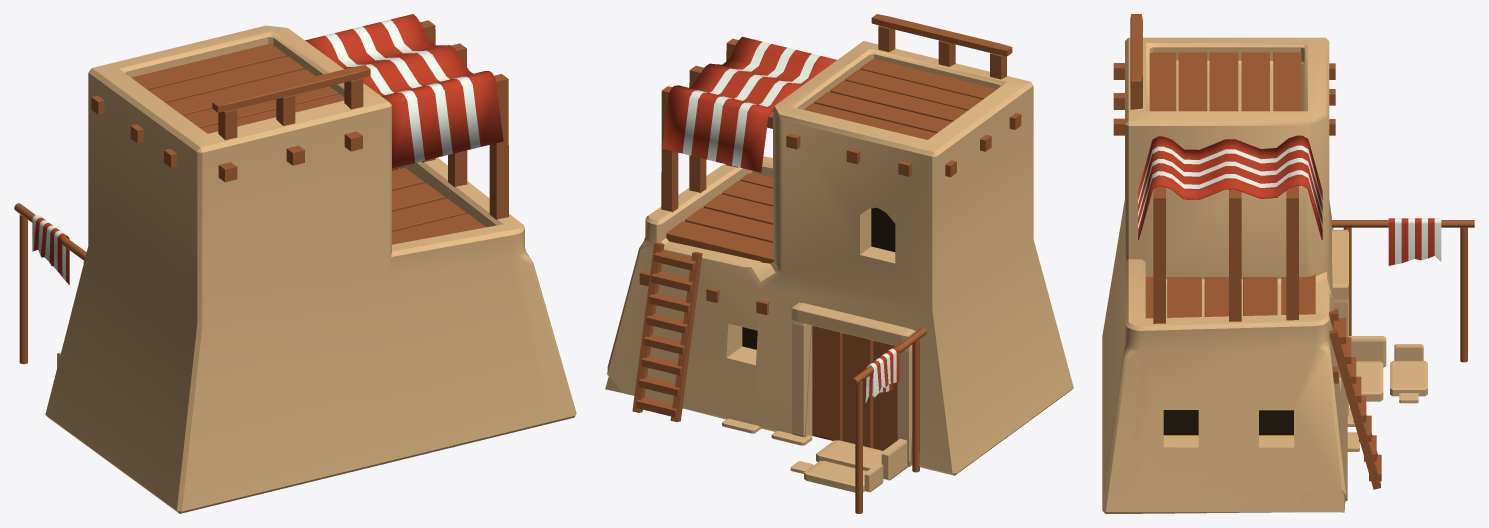
The model's file is DesertHouse_Red.fbx.
3 views of the same model, side by side, from view 1: azimuth 30°, elevation 25°; view 2: azimuth 150°, elevation 25°; view 3: azimuth 270°, elevation 25° (orthographic). The views are drawn at different scales.
Visible parts, largest first — view 1: Cube.036, Plane.001, Cube.037, Cube.071, Cube.063, Cube.067, Cylinder.007, Cylinder.005, Cube.062; view 2: Cube.036, Plane.001, Cube.037, Cube.048, Cube.071, Cube.068, Cube.052, Cube.053, Cube.067, Cube.070, Cube.054, Cube.047 (+8 smaller); view 3: Cube.036, Plane.001, Cube.037, Cube.071, Cylinder.007, Cube.063, Cube.047, Cube.062, Cube.069, Cube.068, Cube.056, Cube.052 (+6 smaller).
Boxes of the visible parts, x1=… form: Cube.036: x1=45, y1=25, x2=576, y2=513; Plane.001: x1=305, y1=14, x2=503, y2=168; Cube.037: x1=131, y1=43, x2=344, y2=133; Cube.071: x1=392, y1=168, x2=485, y2=244; Cube.063: x1=489, y1=74, x2=508, y2=219; Cube.067: x1=212, y1=65, x2=370, y2=112; Cylinder.007: x1=32, y1=215, x2=69, y2=284; Cylinder.005: x1=19, y1=214, x2=27, y2=364; Cube.062: x1=448, y1=43, x2=467, y2=187; Cube.036: x1=605, y1=41, x2=1073, y2=475; Plane.001: x1=662, y1=36, x2=836, y2=172; Cube.037: x1=804, y1=59, x2=996, y2=139; Cube.048: x1=812, y1=325, x2=897, y2=450; Cube.071: x1=666, y1=173, x2=774, y2=263; Cube.068: x1=636, y1=251, x2=696, y2=417; Cube.052: x1=791, y1=302, x2=915, y2=346; Cube.053: x1=792, y1=319, x2=811, y2=437; Cube.067: x1=871, y1=14, x2=1012, y2=56; Cube.070: x1=670, y1=252, x2=702, y2=422; Cube.054: x1=897, y1=344, x2=912, y2=466; Cube.047: x1=661, y1=86, x2=772, y2=212; Cube.036: x1=1102, y1=37, x2=1347, y2=513; Plane.001: x1=1138, y1=135, x2=1322, y2=240; Cube.037: x1=1149, y1=52, x2=1301, y2=111; Cube.071: x1=1145, y1=274, x2=1315, y2=318; Cylinder.007: x1=1388, y1=218, x2=1441, y2=265; Cube.063: x1=1153, y1=186, x2=1165, y2=323; Cube.047: x1=1286, y1=185, x2=1298, y2=320; Cube.062: x1=1229, y1=140, x2=1241, y2=321; Cube.069: x1=1329, y1=329, x2=1380, y2=489; Cube.068: x1=1333, y1=318, x2=1381, y2=481; Cube.056: x1=1390, y1=361, x2=1427, y2=396; Cube.052: x1=1332, y1=229, x2=1348, y2=299.
Size of the model in its own units: 442 by 410 by 393.
